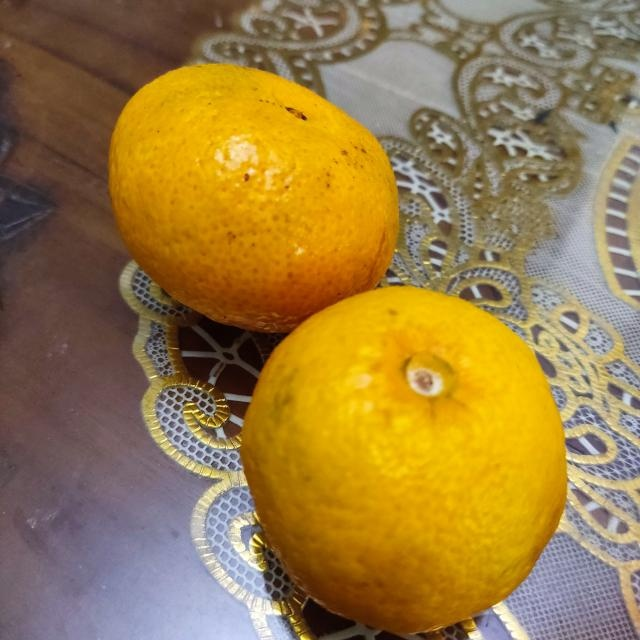agrume: (240, 282, 570, 628), (105, 62, 400, 339)
